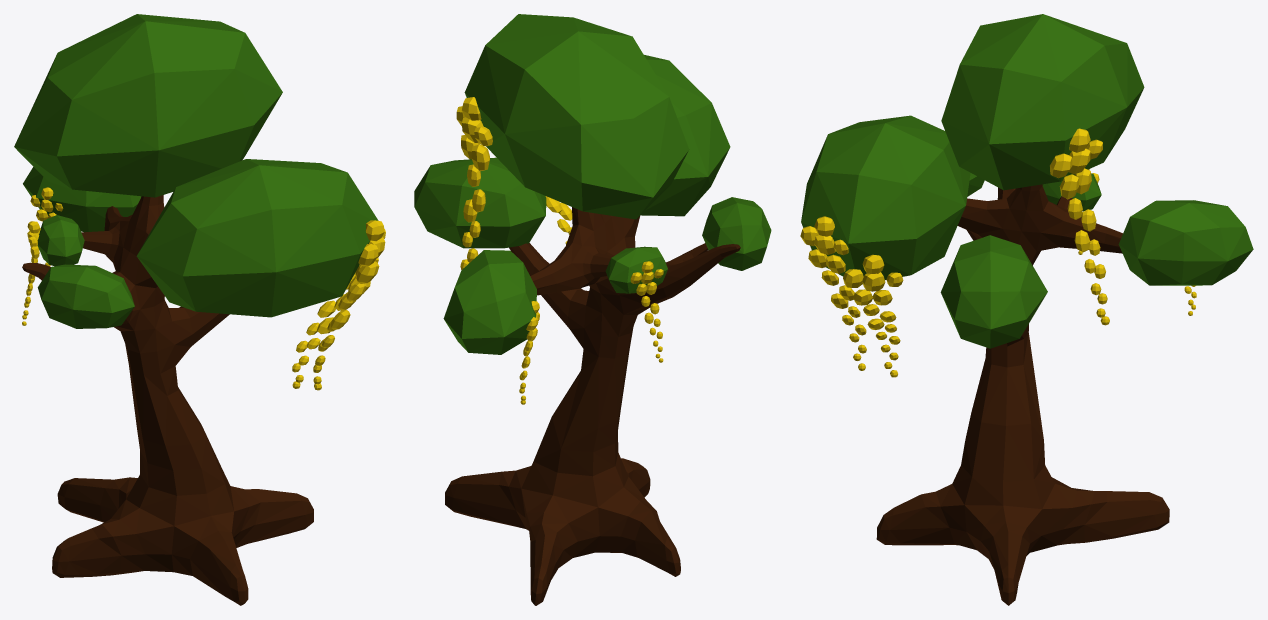
Rendered from tree1.fbx.
The picture shows the model from 3 angles, left to right: view 1: azimuth 30°, elevation 25°; view 2: azimuth 150°, elevation 25°; view 3: azimuth 270°, elevation 25°; orthographic projection.
Visible parts, largest first — view 1: tree, f3, f1, f4, f5; view 2: tree, f2, f4, f5, f1; view 3: tree, f2, f3, f1.
Part boxes in pixels (x1=…): tree: x1=14, y1=14, x2=378, y2=605; f3: x1=313, y1=220, x2=385, y2=390; f1: x1=292, y1=272, x2=370, y2=388; f4: x1=22, y1=221, x2=40, y2=325; f5: x1=30, y1=187, x2=63, y2=266; tree: x1=414, y1=14, x2=771, y2=605; f2: x1=456, y1=97, x2=492, y2=269; f4: x1=630, y1=261, x2=663, y2=362; f5: x1=519, y1=301, x2=539, y2=404; f1: x1=545, y1=196, x2=572, y2=244; tree: x1=801, y1=14, x2=1253, y2=605; f2: x1=1050, y1=128, x2=1109, y2=325; f3: x1=800, y1=216, x2=866, y2=370; f1: x1=843, y1=254, x2=903, y2=377.
Bounding box in the file's own units: 501 × 753 × 589.
